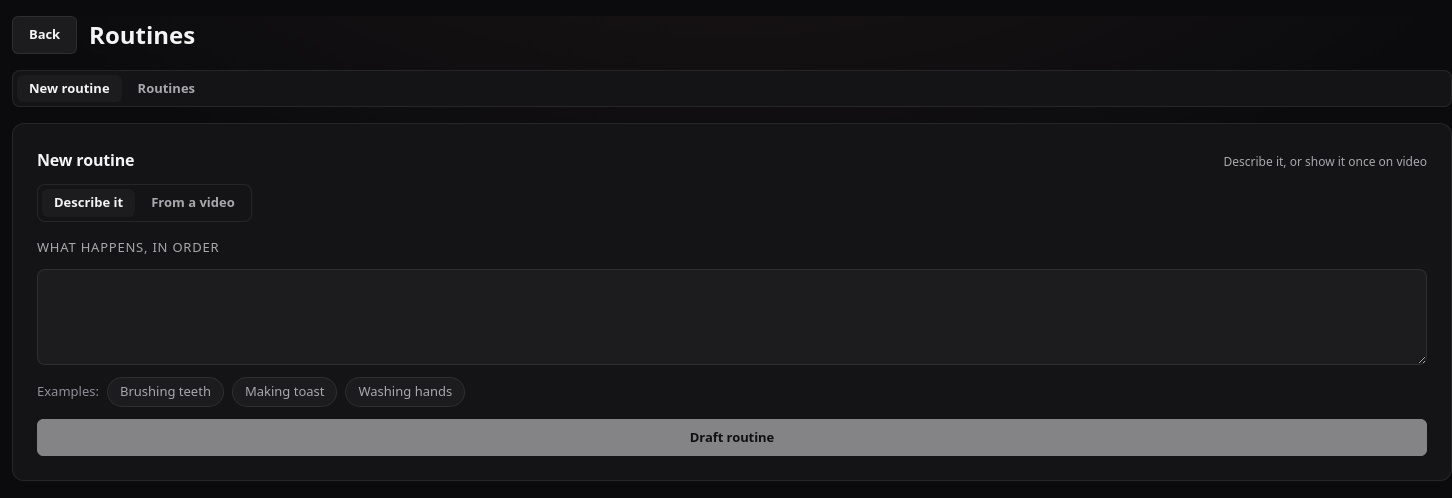
it: RoutinesScreen › lists what the live API sends, which carries a step count and no task graph
The width and height of the screenshot is (1452, 498).
Click the button "Routines" at (166, 88), box top-left (126, 74), bottom-right (207, 102)
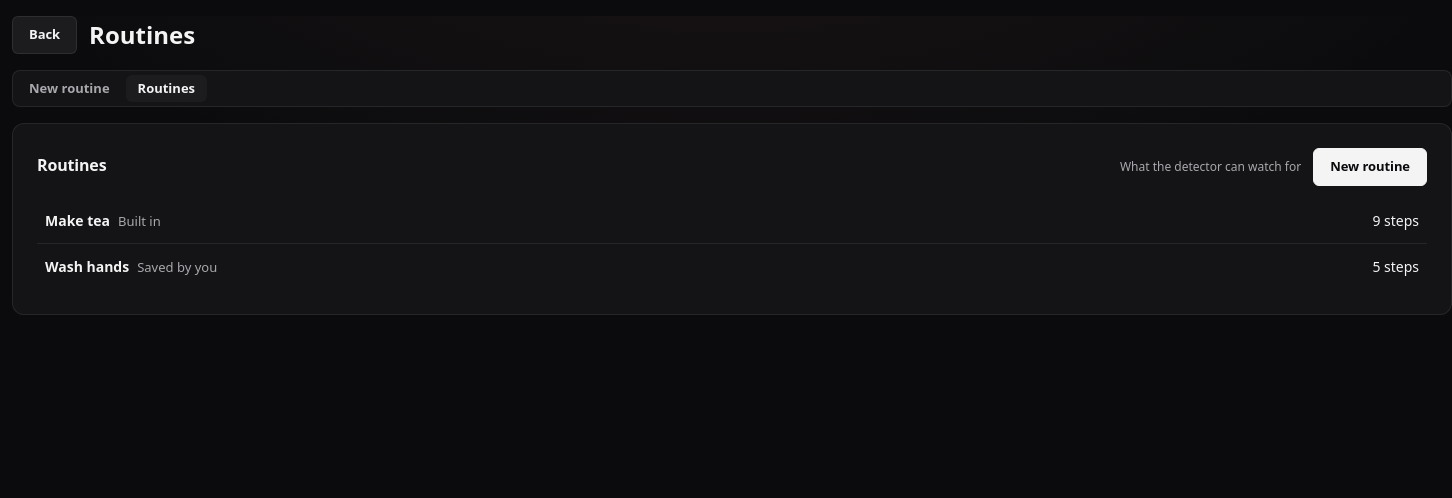
Expected: the text "Wash hands" is shown, top-left (45, 256), bottom-right (129, 277)
Expected: the text "9 steps" is shown, top-left (1372, 210), bottom-right (1419, 231)
Expected: the text "5 steps" is shown, top-left (1372, 256), bottom-right (1419, 277)
